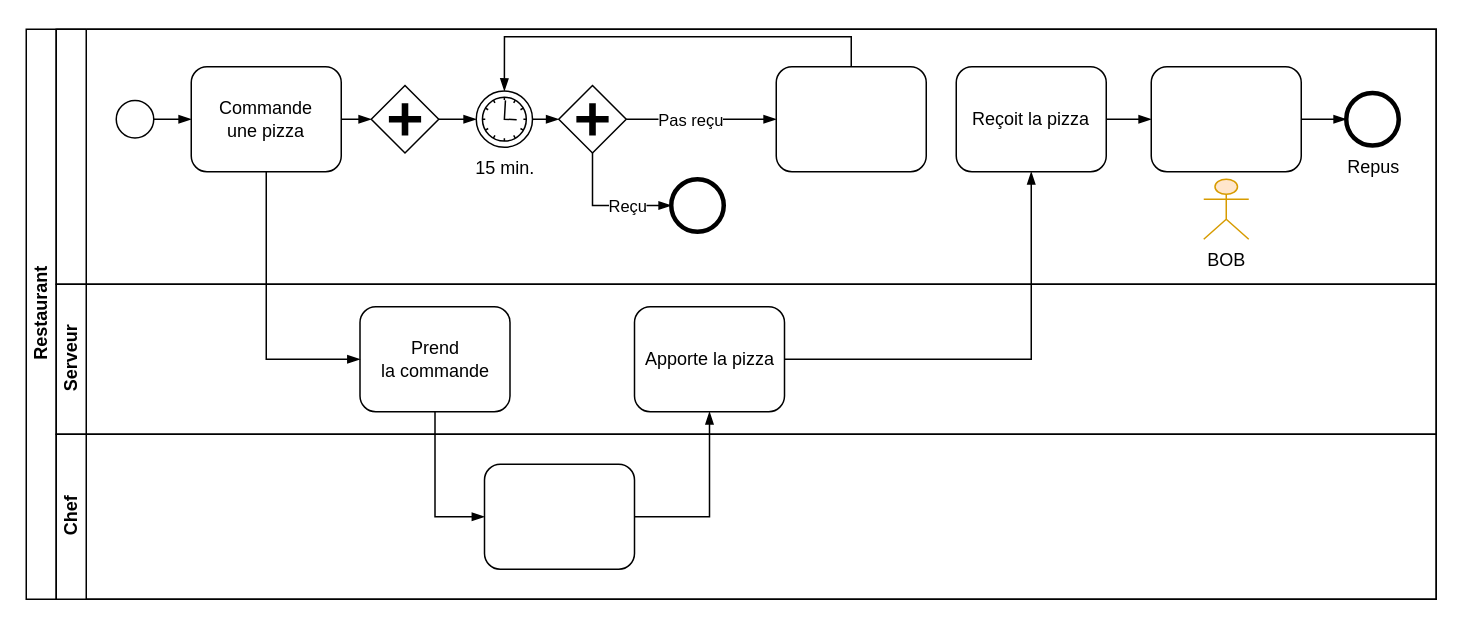
Some shapes in this 1463 by 626 pixel diagram are drawn without their labels. Here are the shapes that lost their labels. From the top down, the box of each, then its label:
(115, 99, 154, 138): Affamé
(775, 65, 926, 172): Rappel le serveur
(1150, 65, 1301, 172): Mange la pizza
(55, 28, 1436, 284): Client
(483, 463, 634, 569): Prépare la pizza
